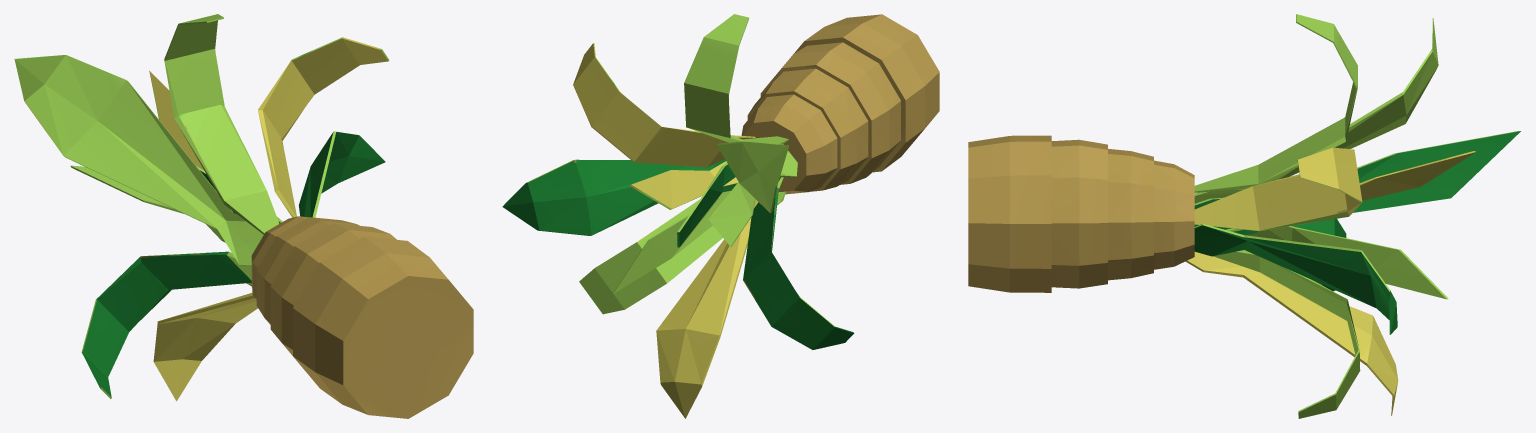
Rendered from palm_small_brush.dae.
3 views of the same model, side by side, from view 1: azimuth 30°, elevation 25°; view 2: azimuth 150°, elevation 25°; view 3: azimuth 270°, elevation 25° (orthographic). The views are drawn at different scales.
Parts seen in each view (by area): view 1: branch; view 2: branch; view 3: branch.
Boxes of the visible parts, left/top/right/bottom form: branch: left=14, top=14, right=473, bottom=418; branch: left=502, top=14, right=939, bottom=418; branch: left=968, top=14, right=1520, bottom=418.
Size of the model in its own units: 2.12 by 3.13 by 2.45.
Materials: 1 (1 with a texture image).
